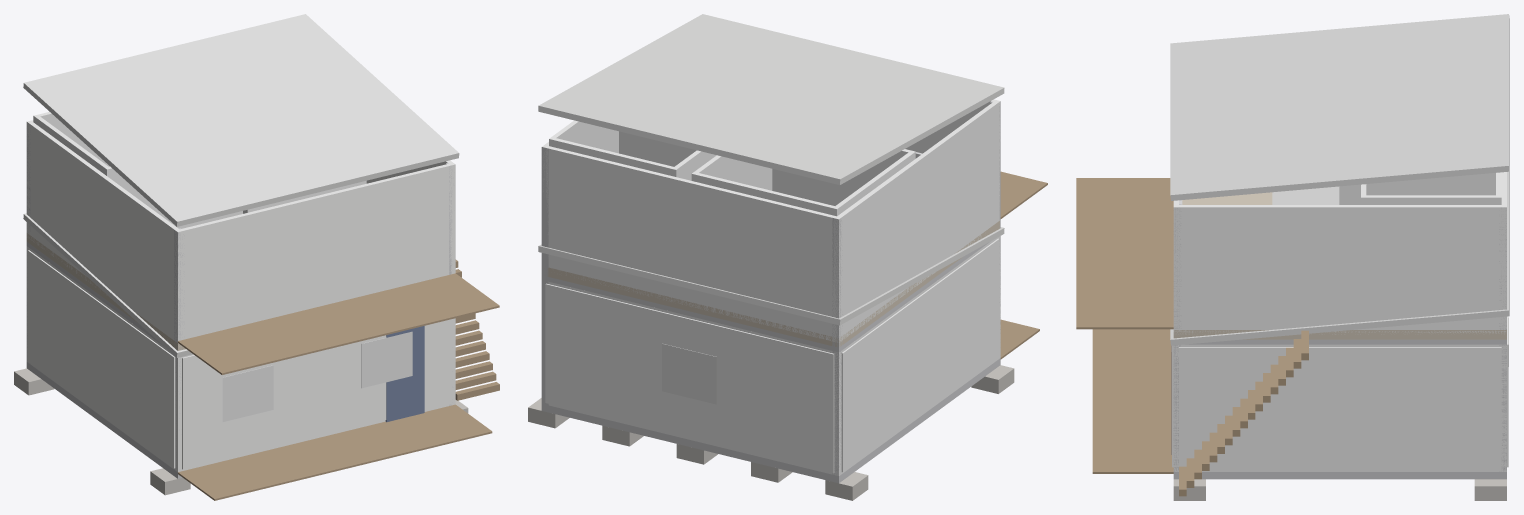
The model's file is Duplex-20-SlopingRoof-LOD0.glb.
The picture shows the model from 3 angles, left to right: view 1: azimuth 30°, elevation 25°; view 2: azimuth 150°, elevation 25°; view 3: azimuth 270°, elevation 25°; orthographic projection. The views are drawn at different scales.
Visible parts, largest first — view 1: RoofSlopingUpgrade.001, ExteriorShellUpper, ExteriorPanelsStandard, BalconyUpper, BalconyGround, WindowsStandard, StaircaseExternal, ExteriorShell, EntryDoor, BedroomUpper, FoundationBlocks, RoofSlopingUpgrade (+4 smaller); view 2: ExteriorShellUpper, ExteriorPanelsStandard, RoofSlopingUpgrade.001, BedroomUpper, StudyUpper, FloorUpper, FoundationBlocks, VerticalStructure, RoofSlopingUpgrade, BaseFrame, ExteriorShell, WindowsStandard (+3 smaller); view 3: RoofSlopingUpgrade.001, ExteriorShellUpper, ExteriorPanelsStandard, BalconyUpper, BalconyGround, RoofSlopingUpgrade, StaircaseExternal, StudyUpper, FloorUpper, ExteriorShell, BaseFrame, TopFrame (+2 smaller).
Part boxes in pixels (bbox=[...]): RoofSlopingUpgrade.001: bbox=[23, 14, 459, 226]; ExteriorShellUpper: bbox=[26, 120, 455, 346]; ExteriorPanelsStandard: bbox=[28, 250, 452, 469]; BalconyUpper: bbox=[178, 273, 499, 374]; BalconyGround: bbox=[178, 404, 492, 500]; WindowsStandard: bbox=[222, 331, 412, 421]; StaircaseExternal: bbox=[455, 259, 499, 400]; ExteriorShell: bbox=[26, 246, 455, 471]; EntryDoor: bbox=[385, 326, 424, 422]; BedroomUpper: bbox=[33, 112, 242, 228]; FoundationBlocks: bbox=[14, 368, 468, 495]; RoofSlopingUpgrade: bbox=[23, 213, 192, 357]; ExteriorShellUpper: bbox=[542, 99, 1000, 342]; ExteriorPanelsStandard: bbox=[545, 238, 999, 473]; RoofSlopingUpgrade.001: bbox=[538, 14, 1004, 184]; BedroomUpper: bbox=[691, 149, 915, 216]; StudyUpper: bbox=[549, 120, 716, 180]; FloorUpper: bbox=[544, 221, 999, 346]; FoundationBlocks: bbox=[528, 365, 1014, 500]; VerticalStructure: bbox=[541, 101, 1000, 475]; RoofSlopingUpgrade: bbox=[538, 227, 1004, 325]; BaseFrame: bbox=[541, 358, 1000, 483]; ExteriorShell: bbox=[548, 236, 1000, 475]; WindowsStandard: bbox=[662, 343, 716, 404]; RoofSlopingUpgrade.001: bbox=[1170, 14, 1509, 200]; ExteriorShellUpper: bbox=[1173, 172, 1506, 334]; ExteriorPanelsStandard: bbox=[1172, 316, 1508, 470]; BalconyUpper: bbox=[1076, 178, 1173, 329]; BalconyGround: bbox=[1092, 329, 1173, 473]; RoofSlopingUpgrade: bbox=[1170, 171, 1509, 345]; StaircaseExternal: bbox=[1179, 330, 1308, 496]; StudyUpper: bbox=[1361, 172, 1501, 204]; FloorUpper: bbox=[1173, 192, 1506, 339]; ExteriorShell: bbox=[1173, 344, 1506, 471]; BaseFrame: bbox=[1173, 472, 1506, 479]; TopFrame: bbox=[1185, 339, 1506, 344].
Size of the model in its own units: 7.94 by 6.72 by 8.01.
